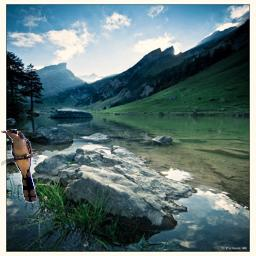Cuckoo: (1, 129, 38, 203)
